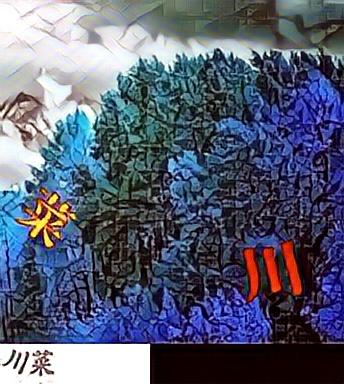B2CB: (15, 186, 80, 250)
B4A8: (238, 240, 303, 304)
